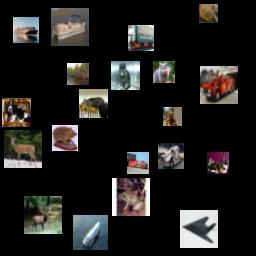airplane: (180, 210, 218, 248)
cat: (79, 89, 108, 118), (111, 61, 140, 90), (52, 125, 78, 151), (153, 61, 175, 83), (207, 152, 229, 174), (199, 4, 218, 23)
deer: (4, 130, 42, 168), (24, 196, 62, 234)
dog: (2, 98, 31, 127)
frog: (112, 178, 150, 216)
ship: (51, 8, 89, 46), (73, 215, 108, 250), (13, 17, 39, 43), (67, 63, 89, 85)
truck: (200, 66, 238, 104), (158, 143, 184, 169), (128, 25, 154, 51), (127, 152, 149, 174)
